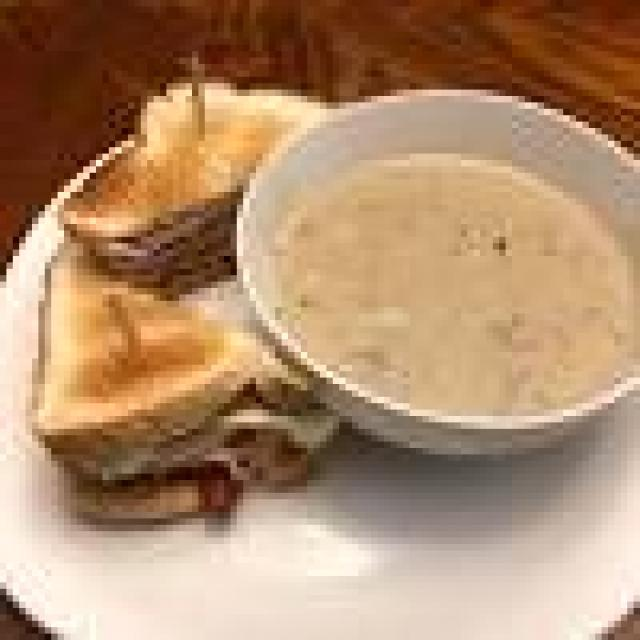Sandwich: (32, 45, 346, 544)
